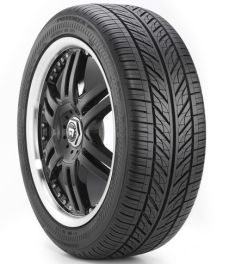new_condition: (101, 8, 206, 249)
